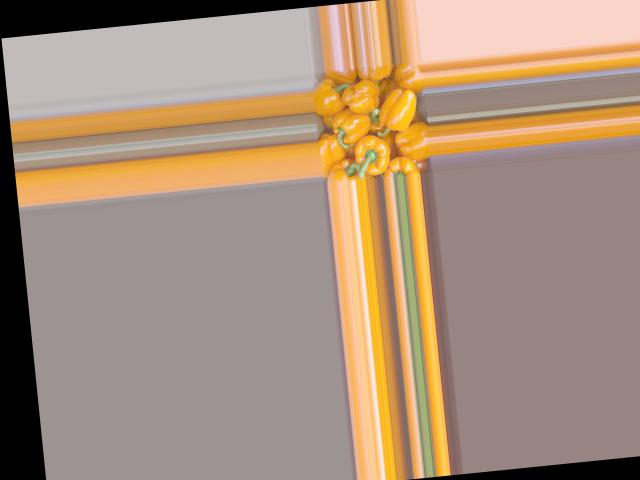bell_pepper: (321, 66, 366, 95)
